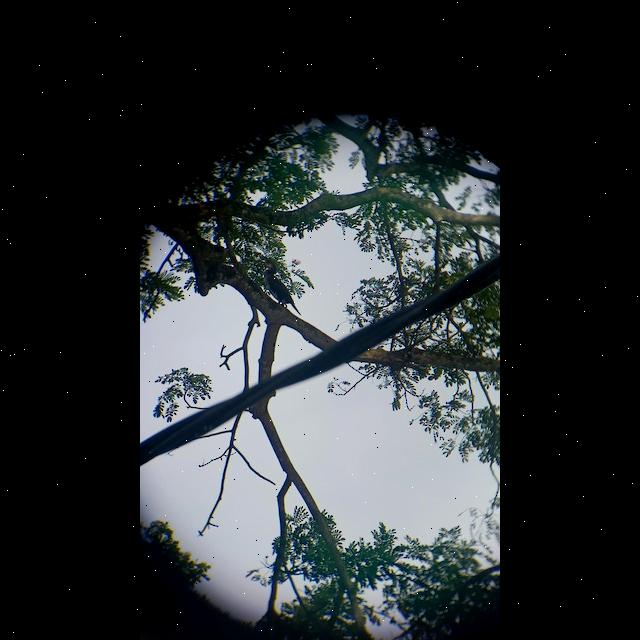cormorant: (258, 256, 306, 312)
